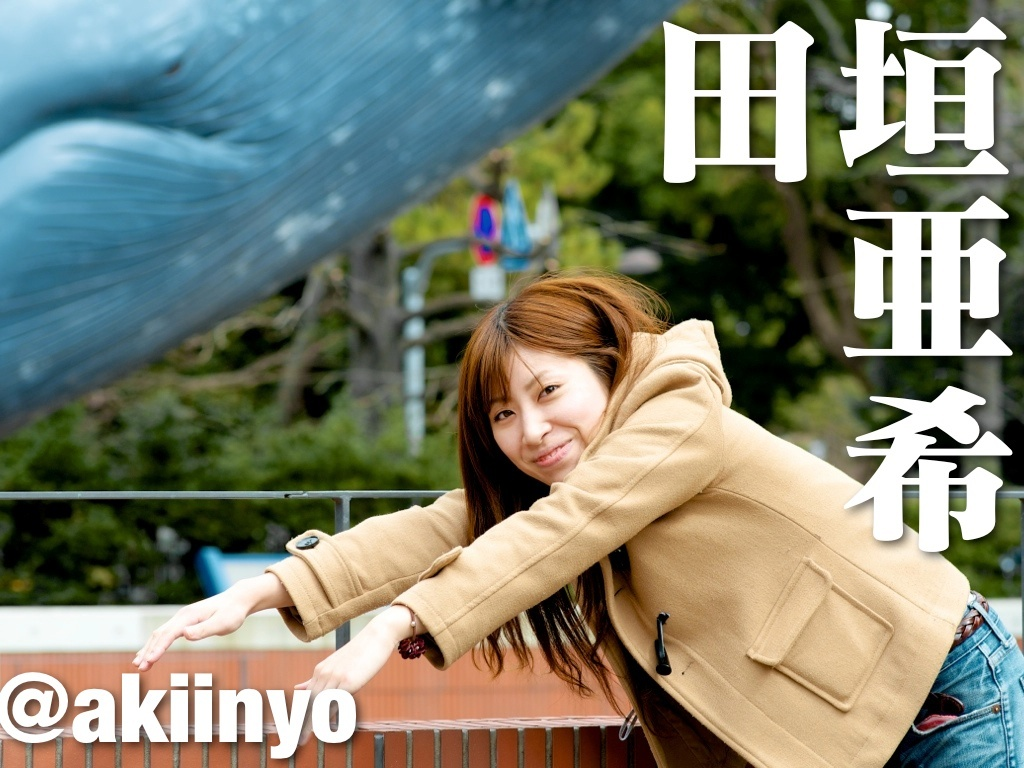Human_hand: (288, 624, 397, 748), (130, 581, 254, 673)
